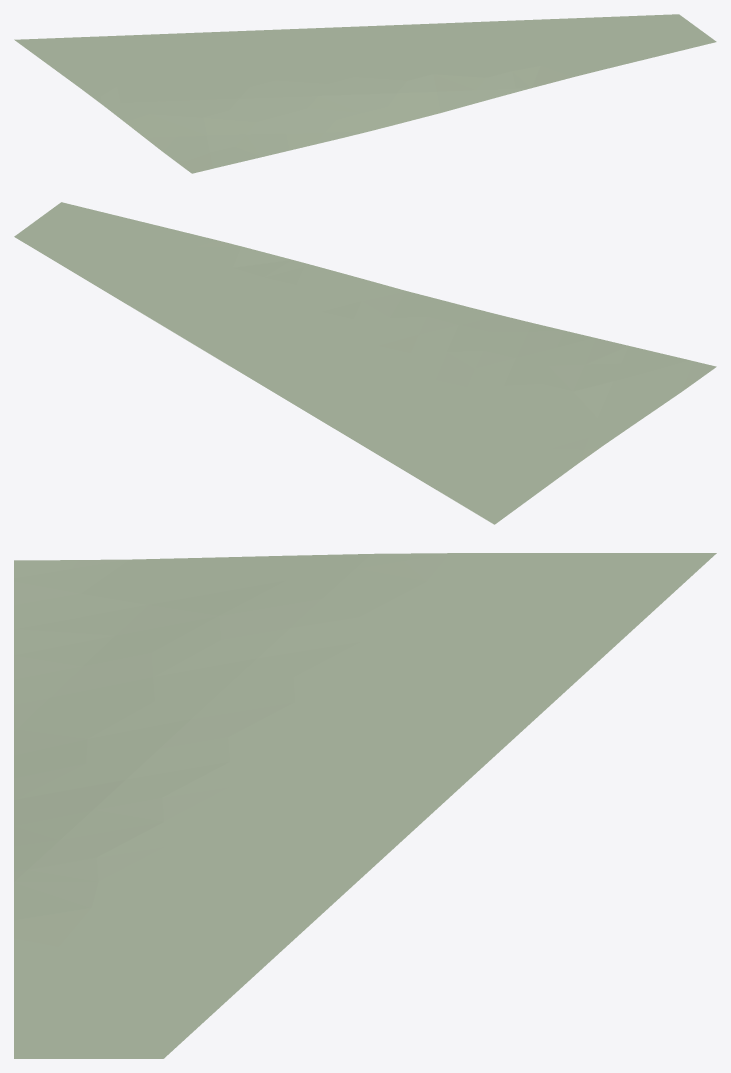
Rendered from SM_MPRR_Terrain_0_4.fbx.
3 views of the same model, one above another, from view 1: azimuth 30°, elevation 25°; view 2: azimuth 150°, elevation 25°; view 3: azimuth 270°, elevation 25° (orthographic). The views are drawn at different scales.
Parts seen in each view (by area): view 1: SM_MPRR_Terrain_0_4; view 2: SM_MPRR_Terrain_0_4; view 3: SM_MPRR_Terrain_0_4.
Part boxes in pixels (<box>): SM_MPRR_Terrain_0_4: <box>14,14,716,173</box>; SM_MPRR_Terrain_0_4: <box>14,202,716,524</box>; SM_MPRR_Terrain_0_4: <box>14,553,716,1058</box>.
Size of the model in its own units: 15000 by 8812 by 129.
